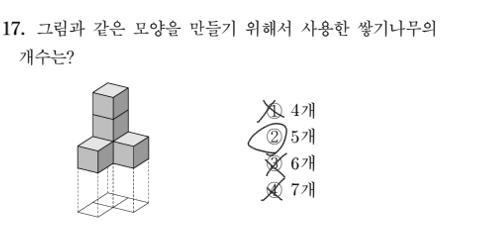1: (246, 122, 290, 155)
paper: (264, 99, 286, 122), (263, 126, 285, 149), (263, 153, 285, 176), (263, 179, 285, 202)
